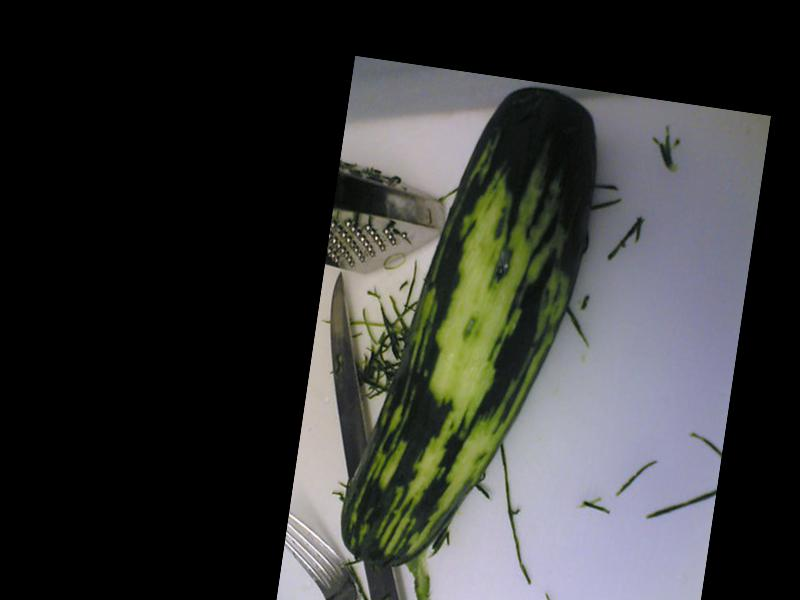Cucumber: (333, 67, 608, 590)
